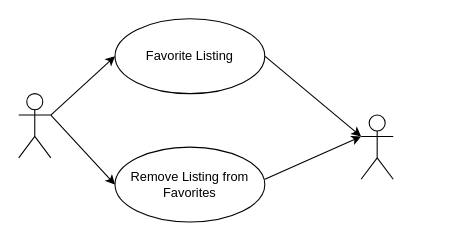
The diagram is 449 pixels wide and 241 high, and some of its shapes have lost their labels. Each missing label, with the centre of its shape:
"Buyer" belongs at [34,125].
"Favorites Manager" belongs at [376,146].
